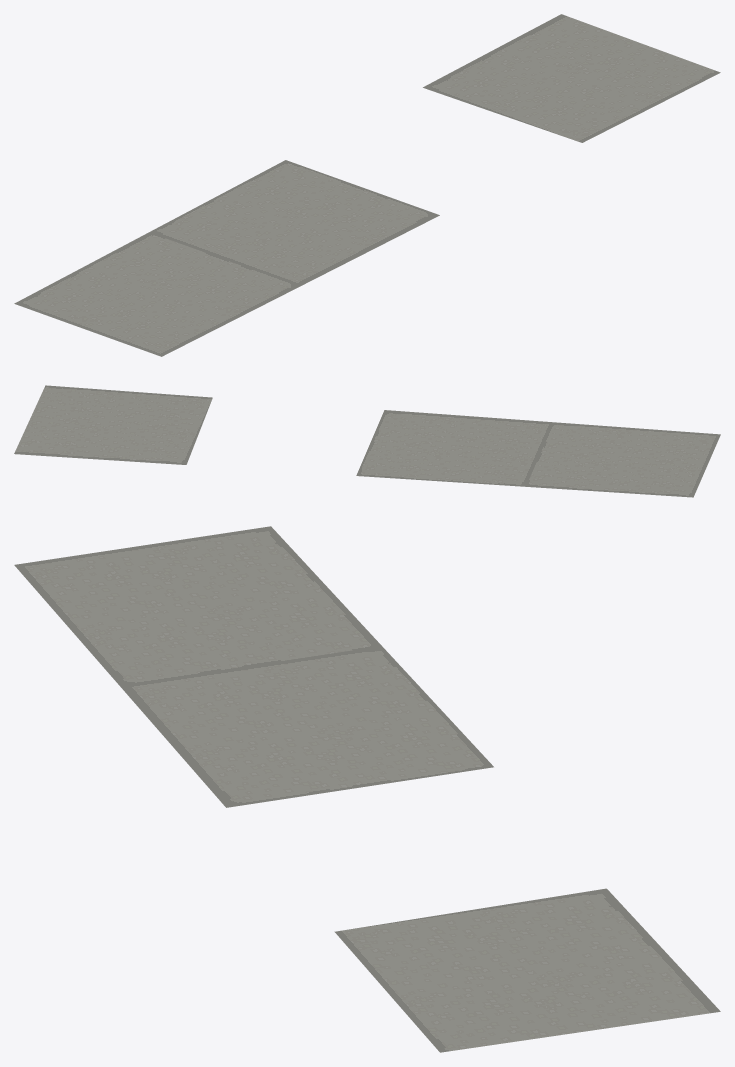
Rendered from kd_stage_136282_3_35.glb.
3 renders of one model, top to bottom at view 1: azimuth 30°, elevation 25°; view 2: azimuth 150°, elevation 25°; view 3: azimuth 270°, elevation 25°, orthographic. The views are drawn at different scales.
Visible parts, largest first — view 1: kd_stage_136282_3_35; view 2: kd_stage_136282_3_35; view 3: kd_stage_136282_3_35.
Part boxes in pixels (<box>): kd_stage_136282_3_35: <box>14,14,720,356</box>; kd_stage_136282_3_35: <box>14,385,720,497</box>; kd_stage_136282_3_35: <box>14,526,720,1052</box>.
Bounding box in the file's own units: 3.02 × 0 × 1.71.
Materials: 1 (1 with a texture image).
